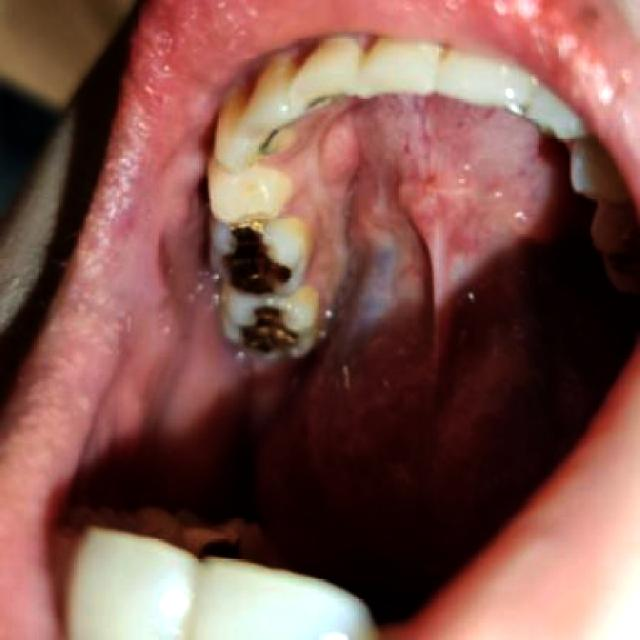Plaque: (289, 188, 339, 280)
